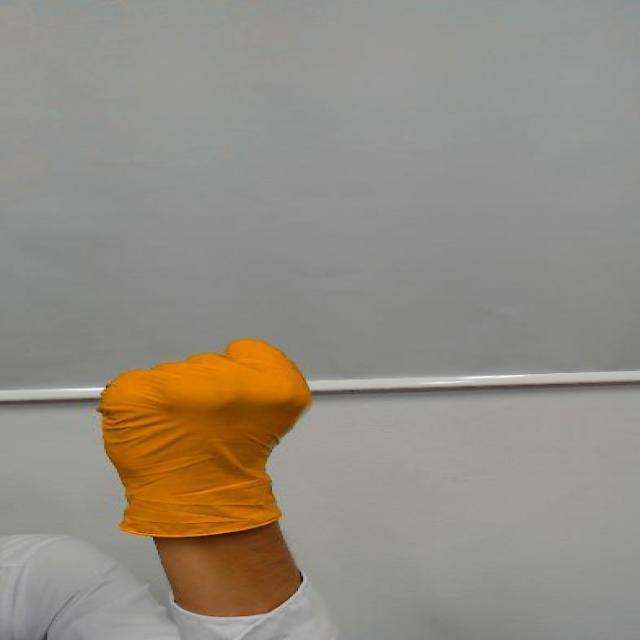Glove: (87, 328, 313, 555)
